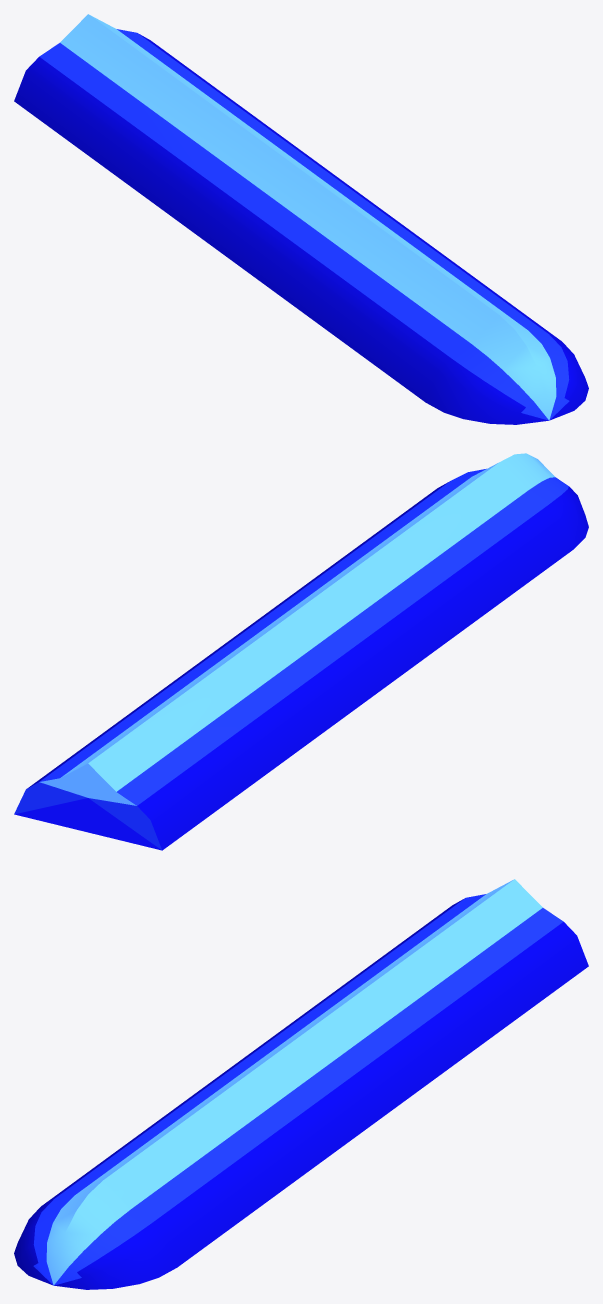
Rendered from shot_needle_186.glb.
3 renders of one model, top to bottom at view 1: azimuth 30°, elevation 25°; view 2: azimuth 150°, elevation 25°; view 3: azimuth 330°, elevation 25°, orthographic.
Parts seen in each view (by area): view 1: shot_needle_186; view 2: shot_needle_186; view 3: shot_needle_186.
Part boxes in pixels (x1=…): shot_needle_186: x1=14, y1=14, x2=588, y2=424; shot_needle_186: x1=14, y1=453, x2=588, y2=850; shot_needle_186: x1=14, y1=879, x2=588, y2=1289.
Bounding box in the file's own units: 2.6 × 1.16 × 14.
